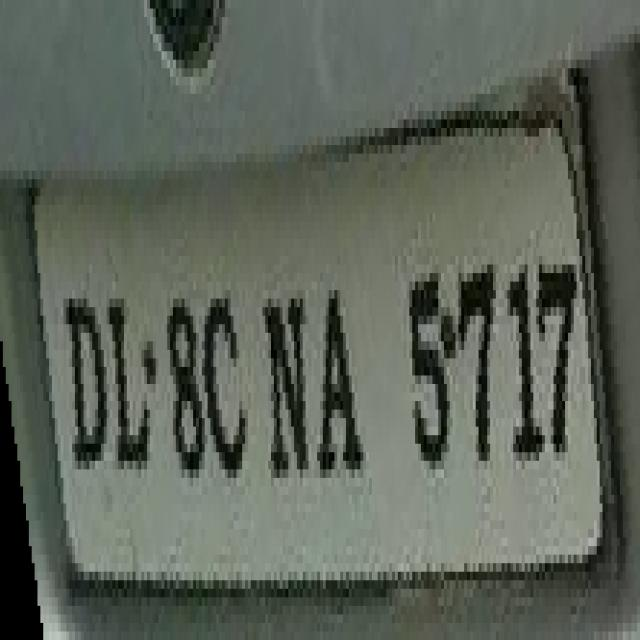license_plate: (6, 60, 605, 606)
